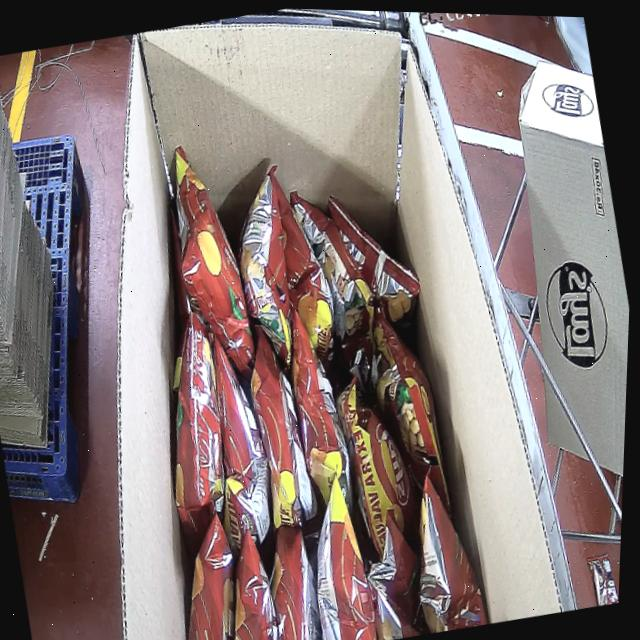MASALA: (88, 100, 508, 640)
